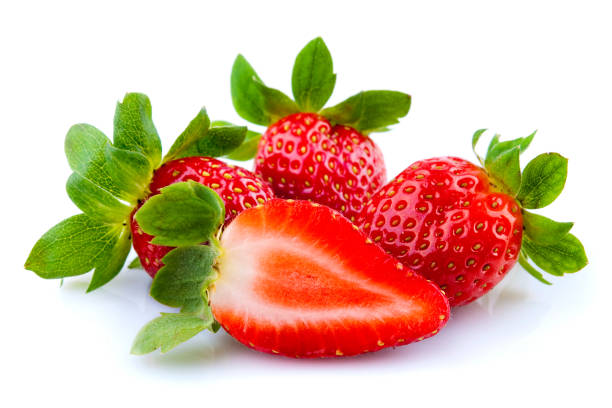Fresa: (202, 188, 459, 367), (352, 151, 537, 310), (126, 148, 280, 292), (256, 105, 390, 241)
